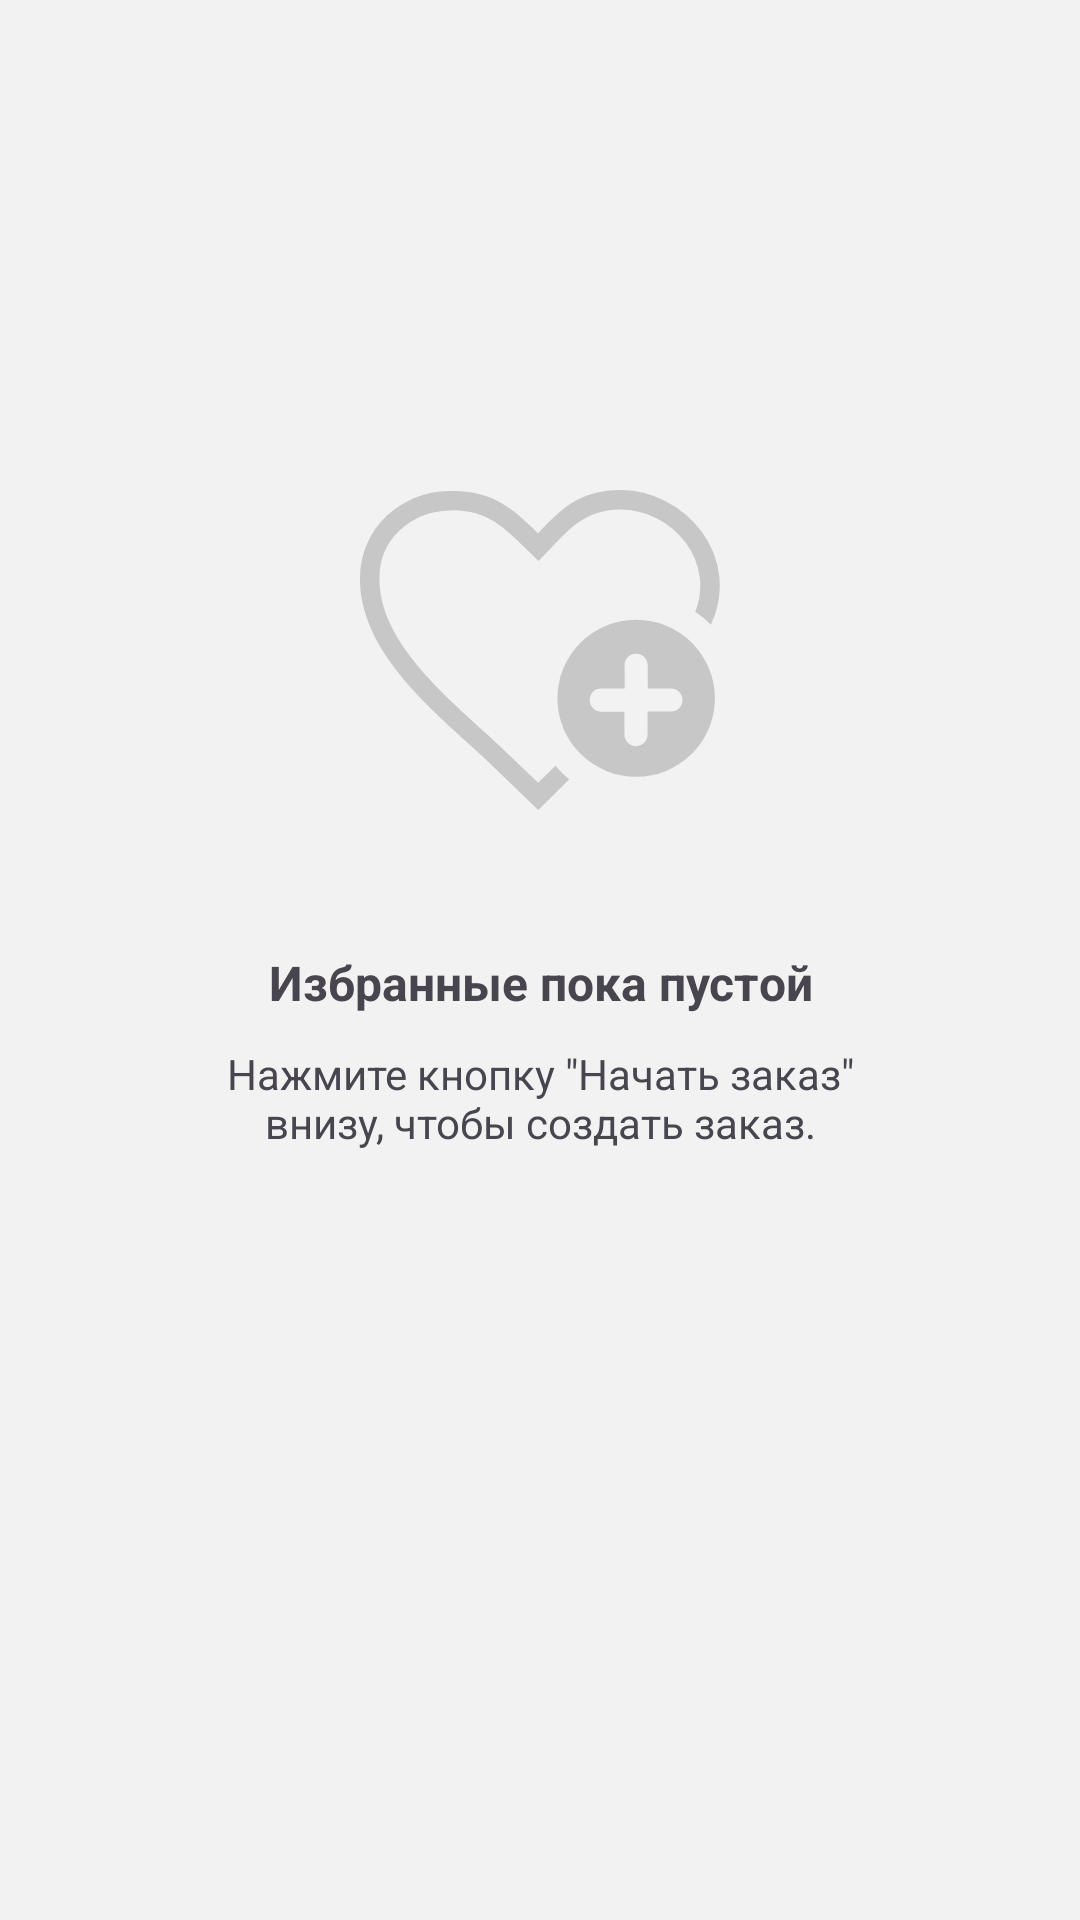

Where to tap for icons on this 1080w x 1920h app screen, as (x,y):
add to favorites: (540,650)
